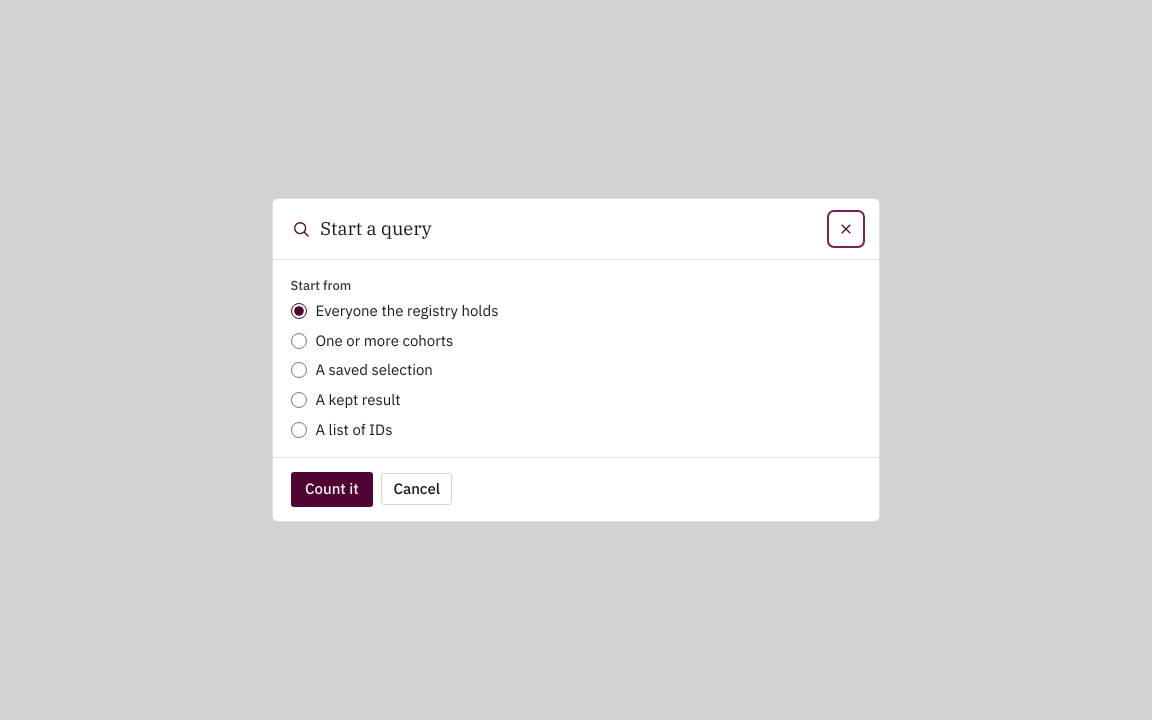
Start a query › counts again after a change: a count belongs to what it was asked of
Click the radio button labelled "A saved selection" at (299, 370), box [291,362,307,378]
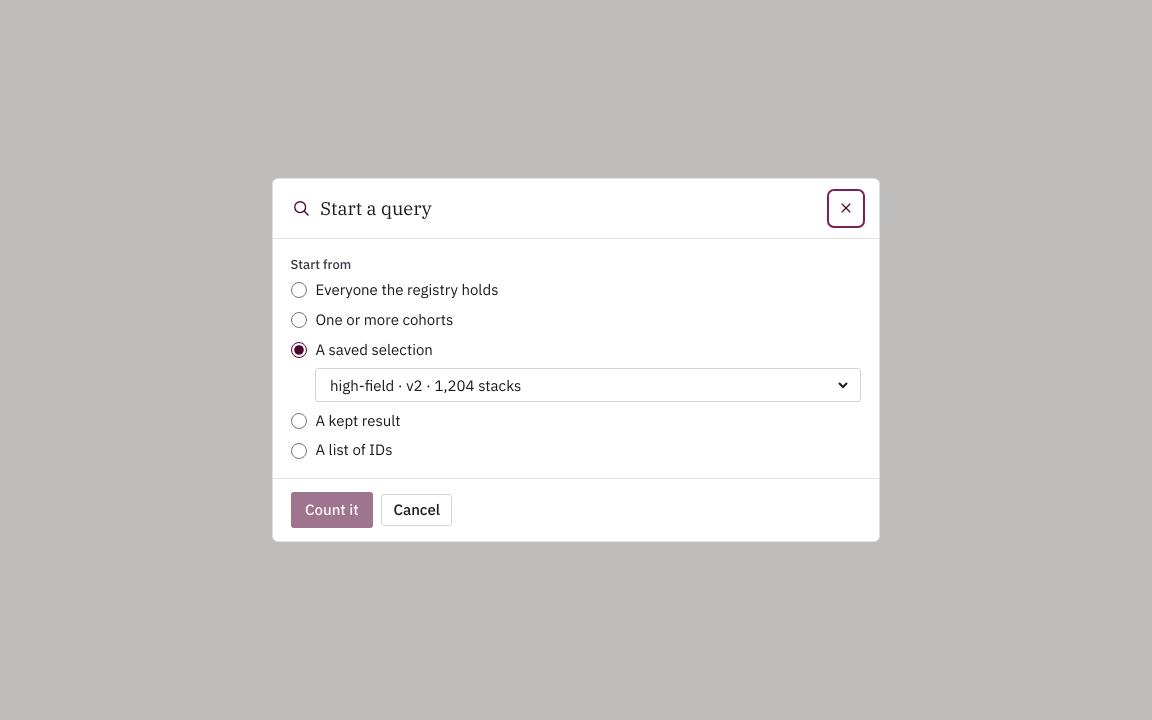
Select "high-field · v2 · 1,204 stacks" in the dropdown named "Which selection" at (588, 385), box [326,369,851,402]
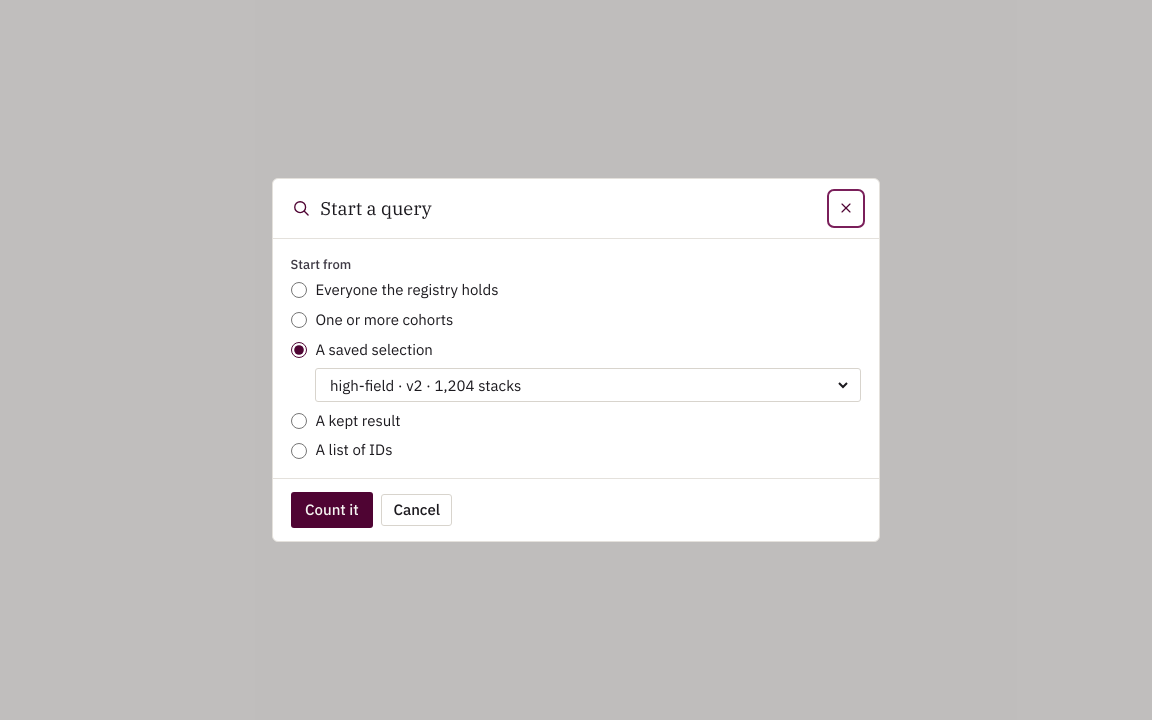
Click the button "Count it" at (332, 510), box [291,492,373,528]
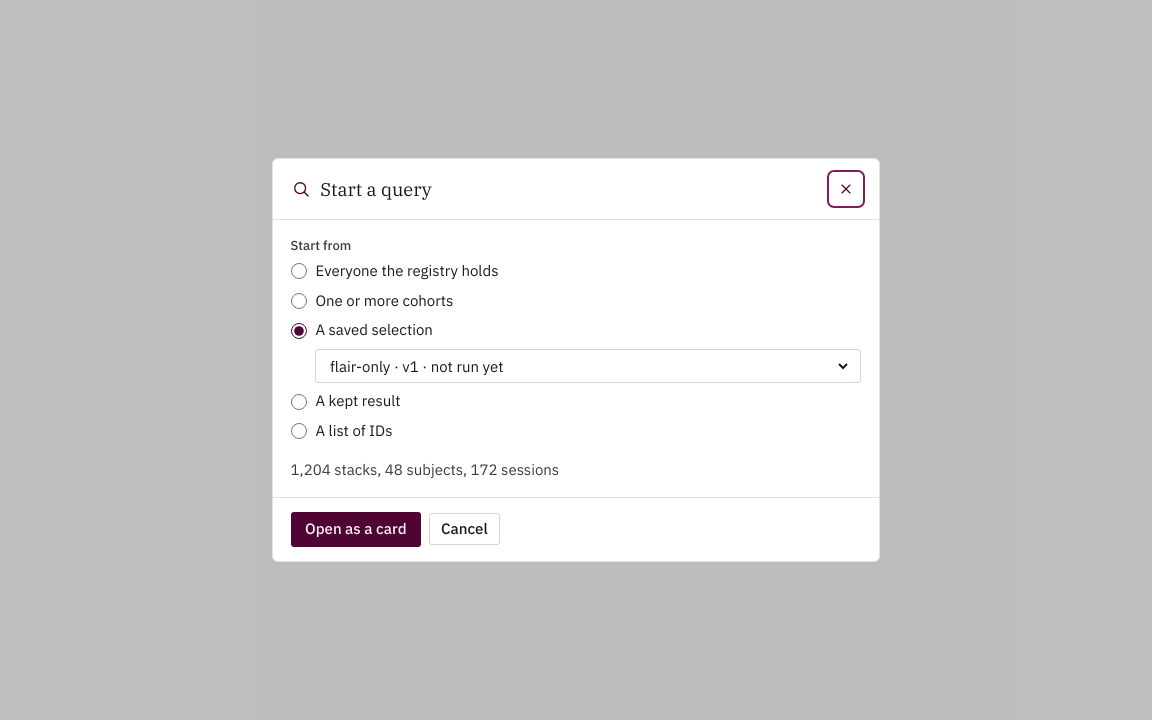
Expected: the button "Open as a card" is shown, [291,512,421,547]
Select "flair-only · v1 · not run yet" in the dropdown named "Which selection" at (588, 366), box [326,350,851,382]
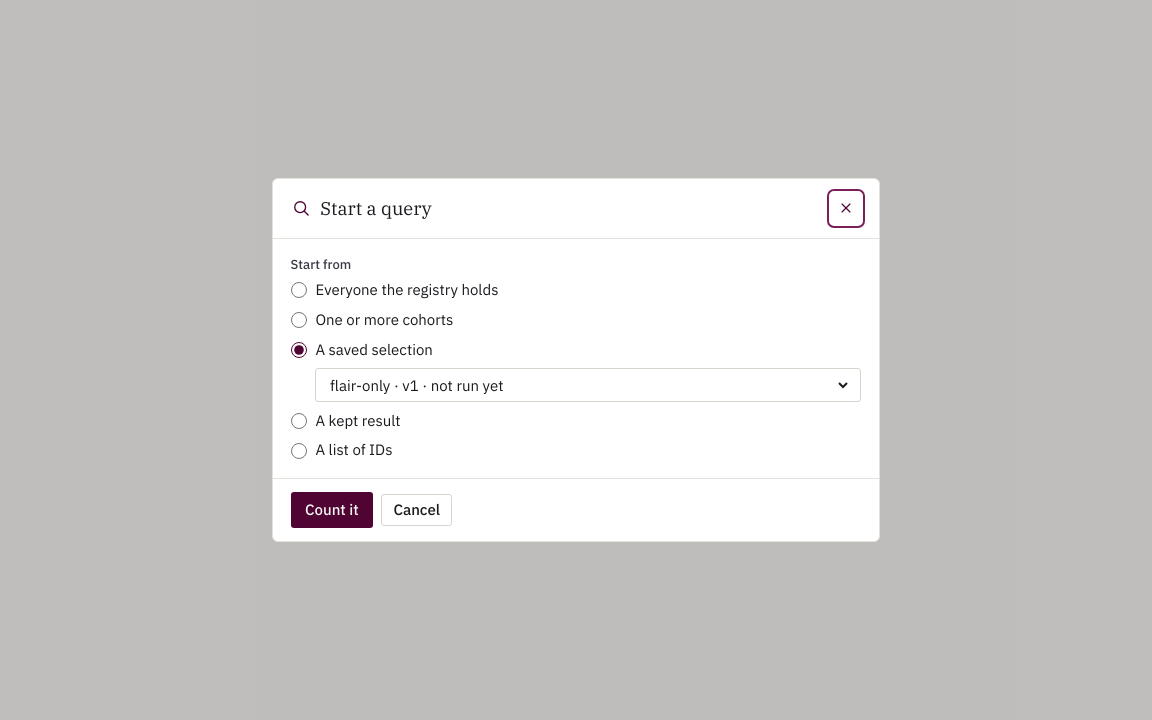
Expected: the button "Count it" is enabled, [291,492,373,528]
Expected: the text with class "lede" is gone
